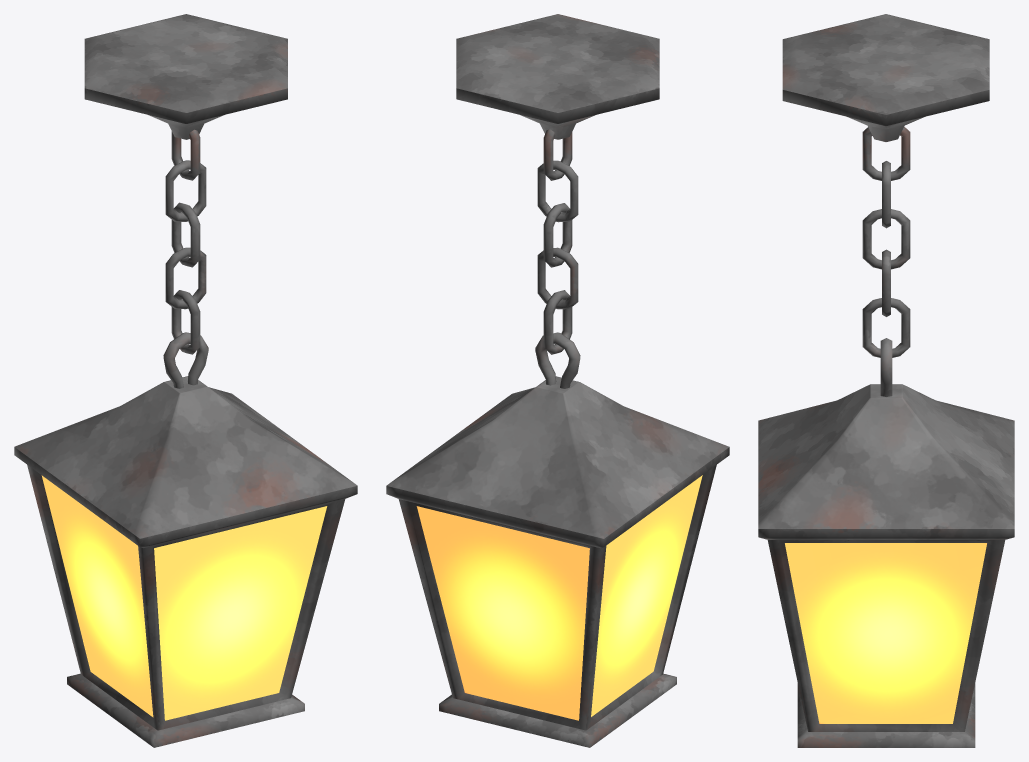
File: SM_Stylized_Lamp_C.fbx
3 renders of one model, left to right at view 1: azimuth 30°, elevation 25°; view 2: azimuth 150°, elevation 25°; view 3: azimuth 270°, elevation 25°, orthographic.
Visible parts, largest first — view 1: SM_Stylized_Lamp_C_LOD0; view 2: SM_Stylized_Lamp_C_LOD0; view 3: SM_Stylized_Lamp_C_LOD0.
Boxes of the visible parts, x1=… form: SM_Stylized_Lamp_C_LOD0: x1=14, y1=14, x2=357, y2=747; SM_Stylized_Lamp_C_LOD0: x1=386, y1=14, x2=729, y2=747; SM_Stylized_Lamp_C_LOD0: x1=758, y1=14, x2=1014, y2=747.
Size of the model in its own units: 35.27 by 35.27 by 101.
